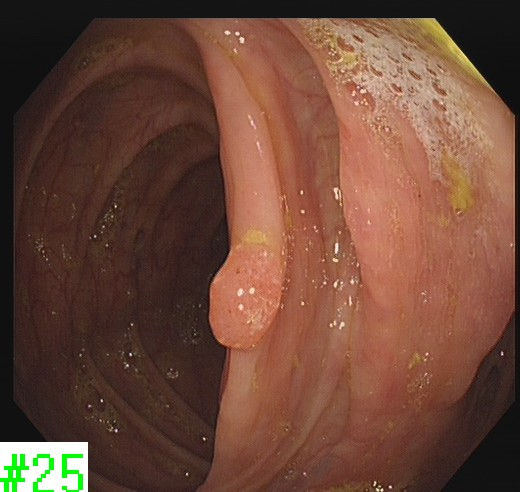adenoma: (204, 241, 287, 352)
